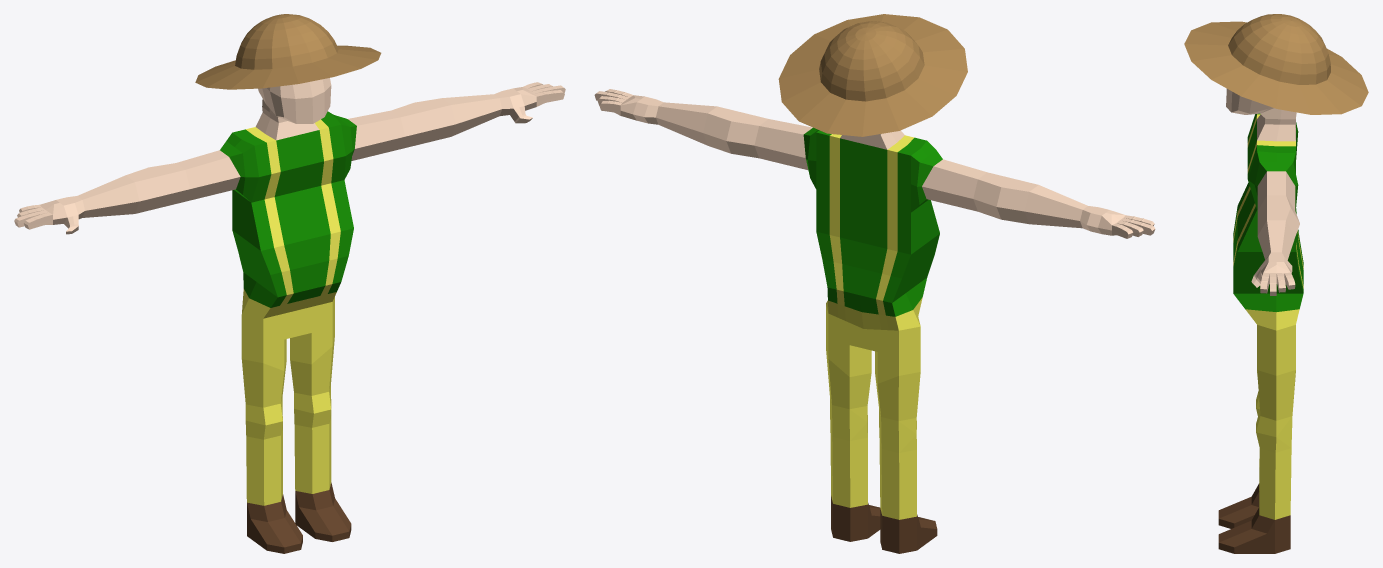
Rendered from NoBoneShelldon.fbx.
The picture shows the model from 3 angles, left to right: view 1: azimuth 30°, elevation 25°; view 2: azimuth 150°, elevation 25°; view 3: azimuth 270°, elevation 25°; orthographic projection.
Visible parts, largest first — view 1: Cube.001, Sphere; view 2: Cube.001, Sphere; view 3: Cube.001, Sphere.
Part boxes in pixels (x1=…): Cube.001: x1=14, y1=78, x2=565, y2=553; Sphere: x1=195, y1=14, x2=381, y2=89; Cube.001: x1=594, y1=89, x2=1155, y2=553; Sphere: x1=778, y1=14, x2=967, y2=136; Cube.001: x1=1218, y1=89, x2=1303, y2=553; Sphere: x1=1184, y1=14, x2=1368, y2=114.
Bounding box in the file's own units: 1178 × 1038 × 338.
